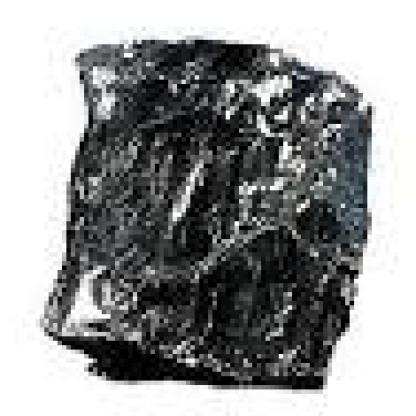Sedimentary_coal: (35, 40, 403, 411), (84, 350, 89, 372)
